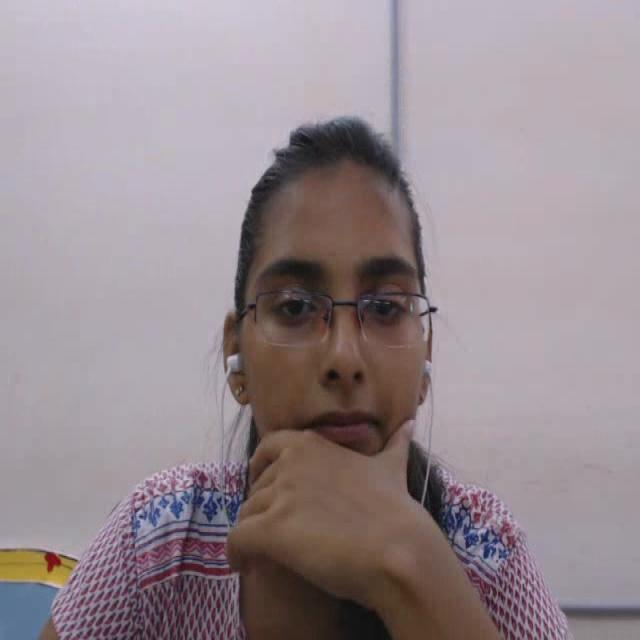Bored: (211, 85, 464, 550)
